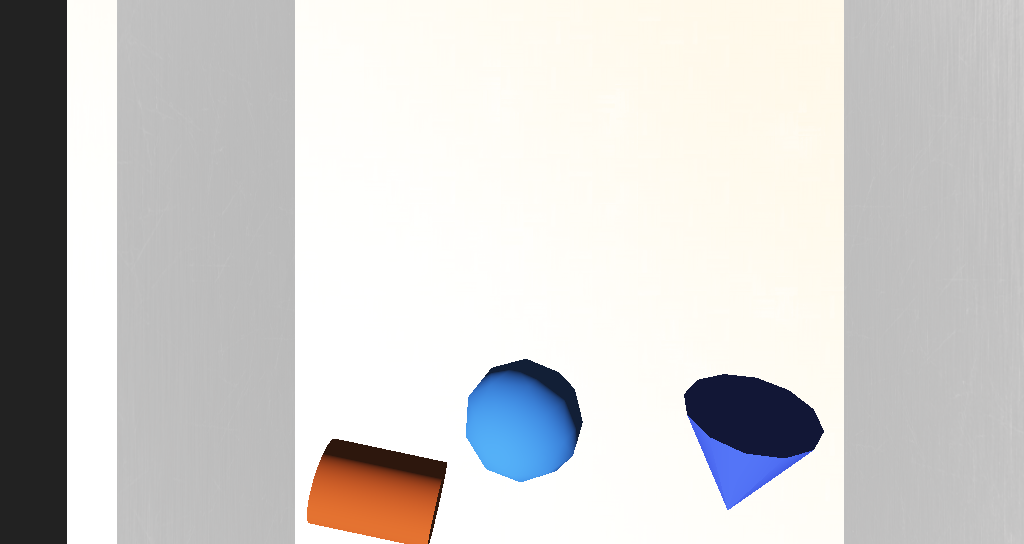cone: (367, 332, 441, 375)
cylinder: (556, 308, 630, 379)
sphere: (445, 303, 512, 346)
